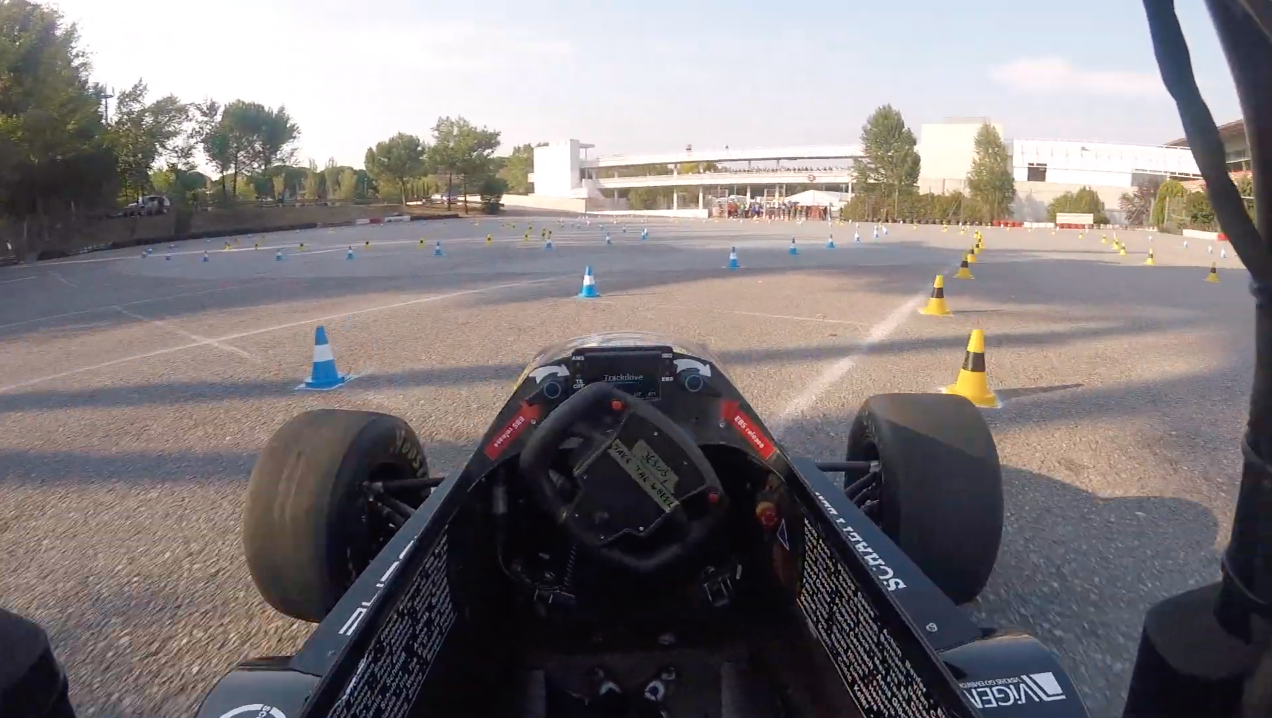lcone: (292, 322, 354, 394), (577, 263, 606, 300), (725, 244, 745, 270)
rcone: (942, 326, 1007, 407), (918, 273, 953, 318), (953, 253, 973, 281)
